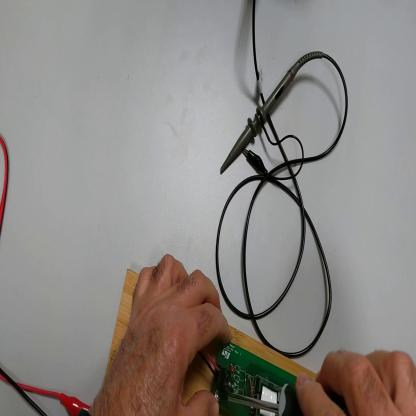hand: (89, 255, 232, 415), (296, 348, 416, 416)
high voltage board: (199, 342, 297, 416)
oscilloscope probe tip: (222, 63, 304, 174)
screwdriver-: (218, 382, 350, 414)
working area: (106, 269, 315, 416)
